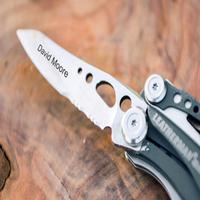knife: (11, 24, 198, 194)
